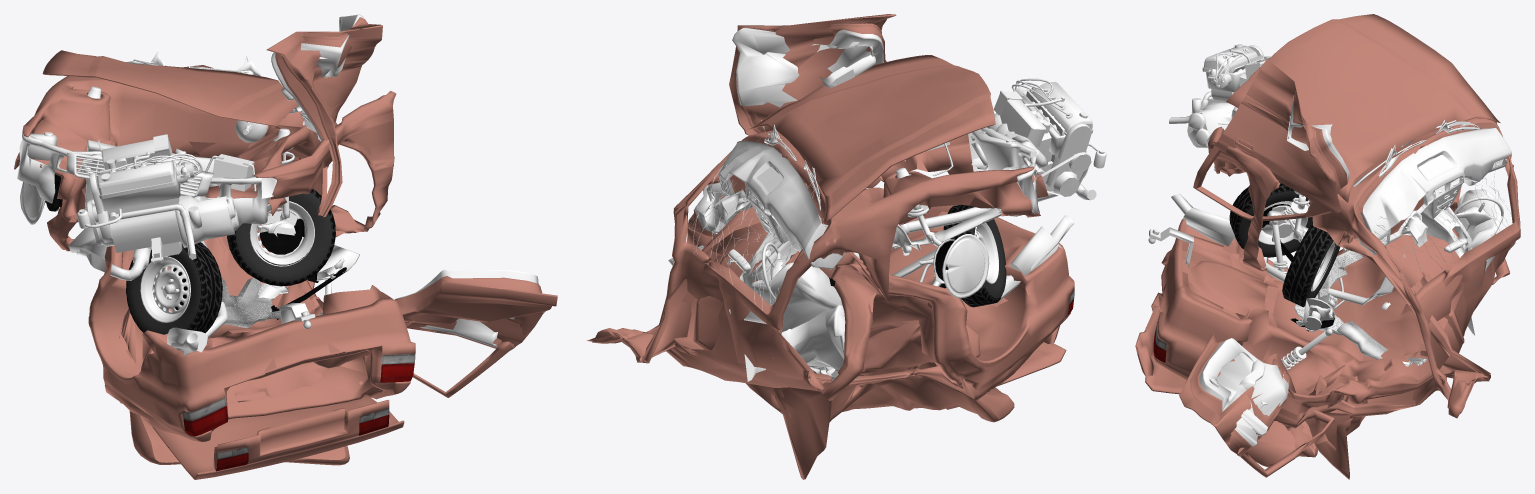
The model's file is crash_8.fbx.
The picture shows the model from 3 angles, left to right: view 1: azimuth 30°, elevation 25°; view 2: azimuth 150°, elevation 25°; view 3: azimuth 270°, elevation 25°; orthographic projection. The views are drawn at different scales.
Parts seen in each view (by area): view 1: Mesh_0058_rip.001, engine_spin, Mesh_0099_rip, Mesh_0087_rip, Mesh_0095_rip, Mesh_0085_rip, Mesh_0084_rip, Mesh_0050_rip, Mesh_0050_rip.001, Mesh_0056_rip, Mesh_0030_rip, Mesh_0047_rip (+17 smaller); view 2: Mesh_0058_rip.001, Mesh_0087_rip, Mesh_0015_rip, Mesh_0014_rip, engine_spin, Mesh_0039_rip, Mesh_0018_rip, Mesh_0085_rip, Mesh_0040_rip, Mesh_0025_rip, Mesh_0066_rip, Mesh_0050_rip (+7 smaller); view 3: Mesh_0058_rip.001, Mesh_0087_rip, Mesh_0085_rip, Mesh_0014_rip, Mesh_0046_rip, Mesh_0095_rip, Mesh_0015_rip, Mesh_0084_rip, engine_spin, Mesh_0050_rip.001, Mesh_0040_rip, Mesh_0055_rip (+13 smaller).
Boxes of the visible parts, bbox=[...] form: Mesh_0058_rip.001: bbox=[14, 65, 415, 442]; engine_spin: bbox=[76, 134, 202, 263]; Mesh_0099_rip: bbox=[152, 396, 404, 479]; Mesh_0087_rip: bbox=[42, 50, 298, 126]; Mesh_0095_rip: bbox=[395, 276, 557, 397]; Mesh_0085_rip: bbox=[266, 17, 382, 217]; Mesh_0084_rip: bbox=[253, 91, 396, 229]; Mesh_0050_rip: bbox=[126, 242, 222, 334]; Mesh_0050_rip.001: bbox=[227, 189, 335, 286]; Mesh_0056_rip: bbox=[17, 132, 270, 230]; Mesh_0030_rip: bbox=[140, 256, 190, 322]; Mesh_0047_rip: bbox=[175, 195, 238, 247]; Mesh_0058_rip.001: bbox=[586, 130, 1074, 400]; Mesh_0087_rip: bbox=[746, 55, 995, 222]; Mesh_0015_rip: bbox=[746, 323, 1014, 479]; Mesh_0014_rip: bbox=[714, 141, 845, 381]; engine_spin: bbox=[987, 78, 1106, 197]; Mesh_0039_rip: bbox=[732, 27, 883, 130]; Mesh_0018_rip: bbox=[750, 262, 857, 380]; Mesh_0085_rip: bbox=[729, 14, 896, 135]; Mesh_0040_rip: bbox=[900, 184, 1096, 303]; Mesh_0025_rip: bbox=[942, 234, 989, 298]; Mesh_0066_rip: bbox=[968, 129, 1019, 171]; Mesh_0050_rip: bbox=[943, 204, 1006, 307]; Mesh_0058_rip.001: bbox=[1153, 118, 1520, 431]; Mesh_0087_rip: bbox=[1226, 14, 1500, 202]; Mesh_0085_rip: bbox=[1193, 58, 1347, 221]; Mesh_0014_rip: bbox=[1358, 127, 1511, 335]; Mesh_0046_rip: bbox=[1199, 338, 1288, 446]; Mesh_0095_rip: bbox=[1179, 333, 1335, 477]; Mesh_0015_rip: bbox=[1246, 395, 1367, 479]; Mesh_0084_rip: bbox=[1208, 126, 1280, 271]; engine_spin: bbox=[1169, 44, 1270, 123]; Mesh_0050_rip.001: bbox=[1282, 222, 1340, 306]; Mesh_0040_rip: bbox=[1171, 193, 1393, 309]; Mesh_0055_rip: bbox=[1294, 250, 1428, 366].
Bounding box in the file's own units: 7.74 × 7.54 × 6.57.
18 materials, 2 textured.
